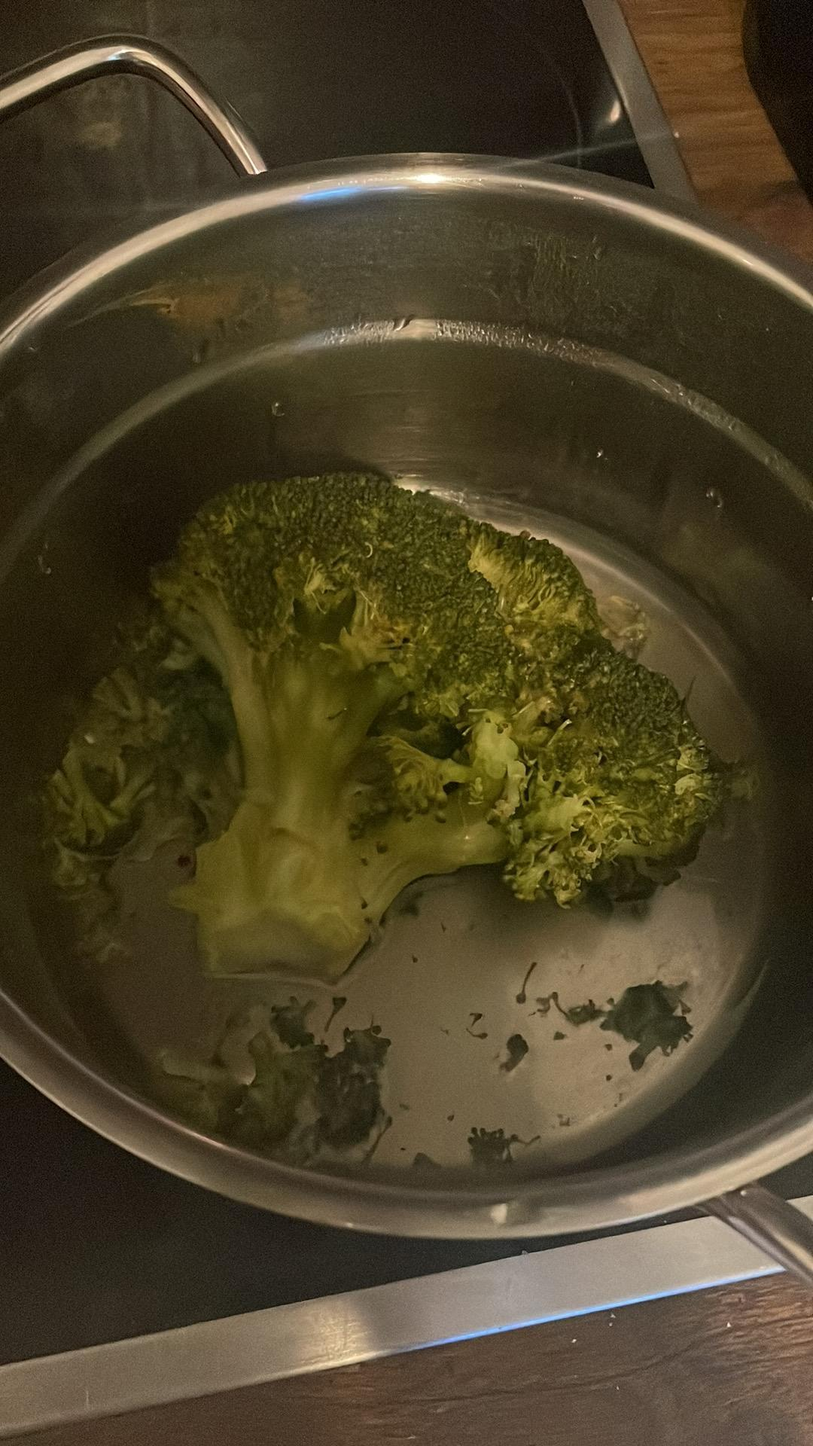broccoli: (158, 458, 730, 970)
